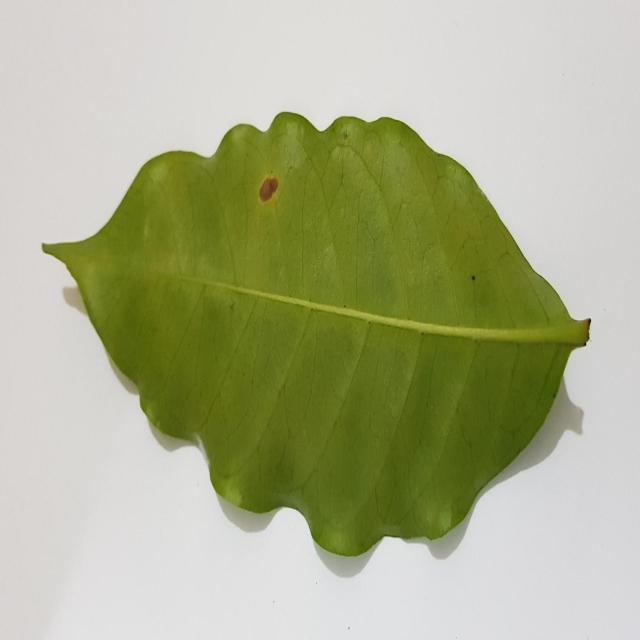Enfermedad-Mancha-de-hierro: (39, 111, 590, 566)
